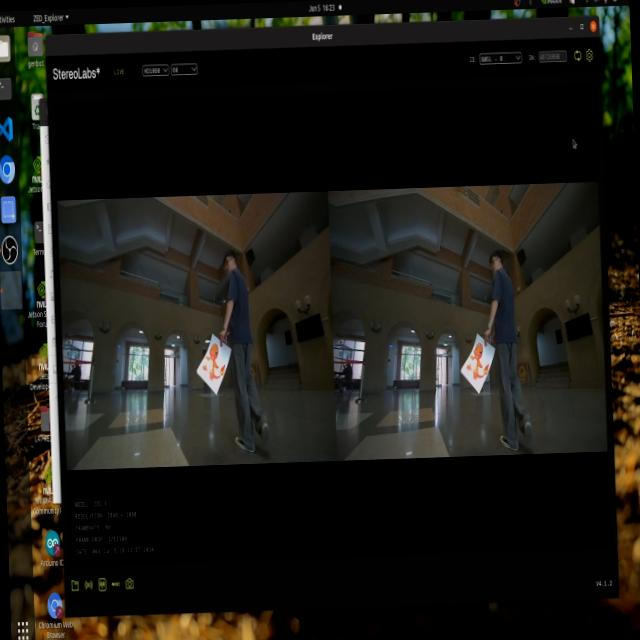red: (460, 336, 500, 402), (209, 332, 226, 392)
